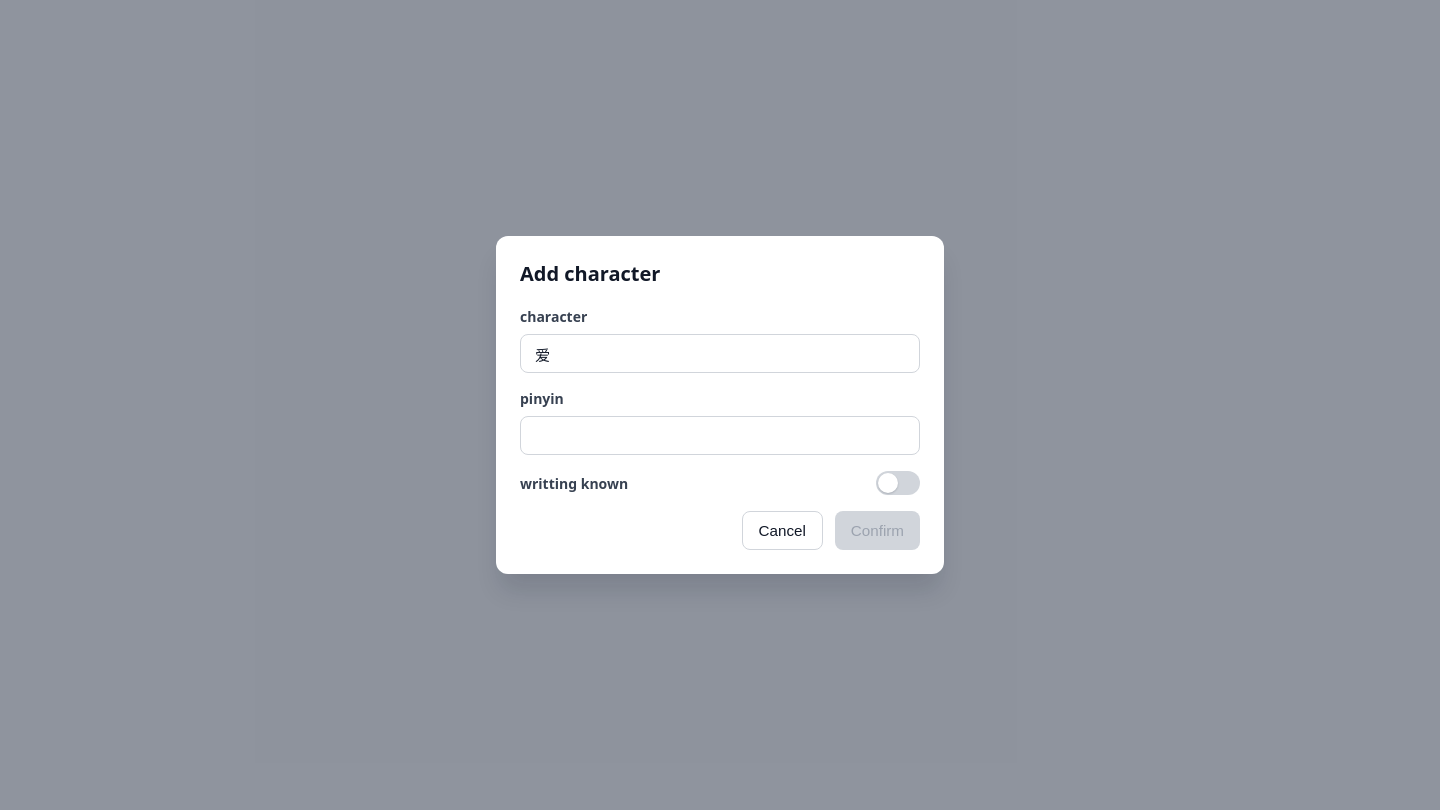
CharacterFormModal › prefills fields in add mode and disables confirm until required fields are filled
This screenshot has width=1440, height=810.
expect the heading "Add character" is shown: met, box [520,260,660,287]
expect the field showing "爱" is shown: met, box [520,334,920,373]
Type "ai" into the field labelled "pinyin" at x=720, y=436, box [520,416,920,455]
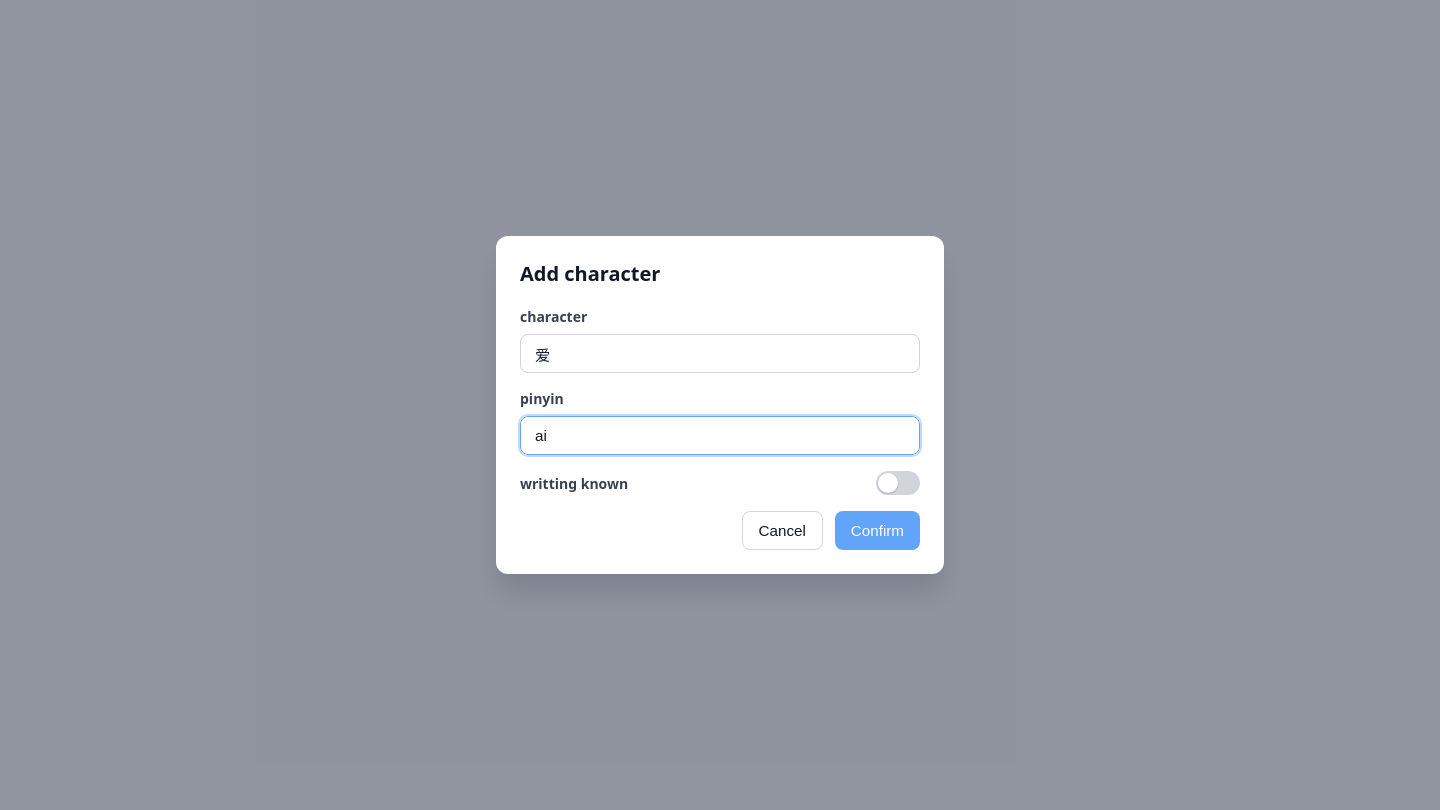
expect the button "Confirm" is enabled: met, box [835,511,920,550]
